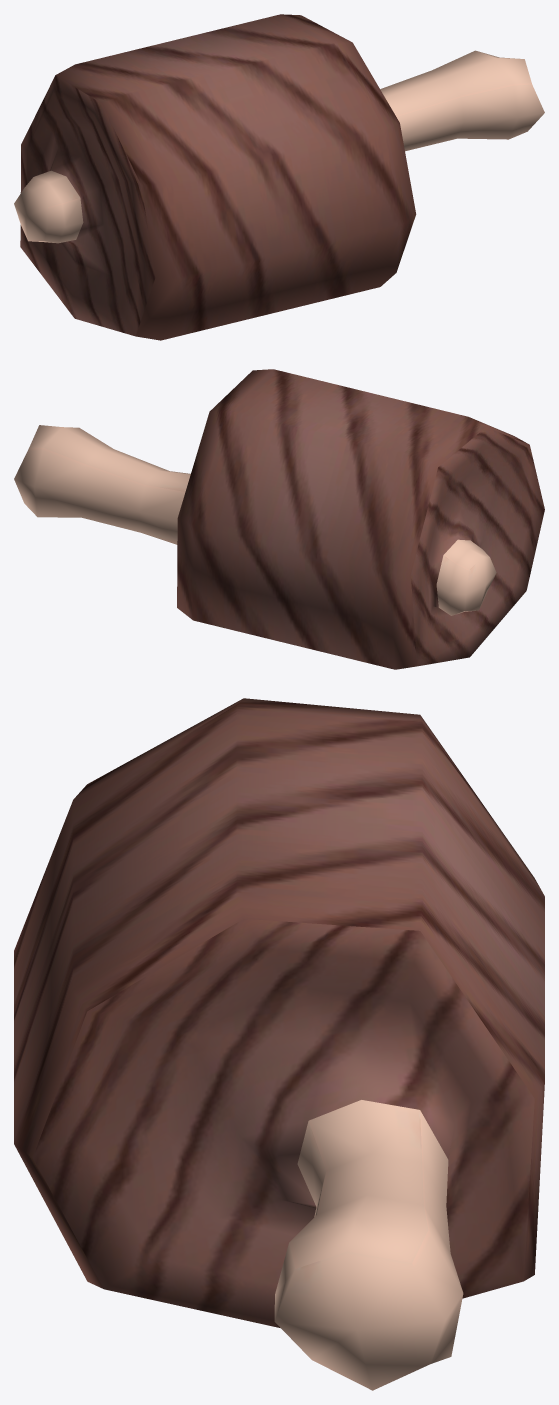
File: CookedPrimeMeat.fbx
The picture shows the model from 3 angles, top to bottom: view 1: azimuth 30°, elevation 25°; view 2: azimuth 150°, elevation 25°; view 3: azimuth 270°, elevation 25°; orthographic projection. The views are drawn at different scales.
Visible parts, largest first — view 1: Meat; view 2: Meat; view 3: Meat.
Boxes of the visible parts, x1,y1,x2,y2 form: Meat: (14, 14, 544, 340); Meat: (14, 369, 544, 669); Meat: (14, 698, 544, 1390).
Size of the model in its own units: 1.71 by 0.7942 by 0.8737.
1 material, 1 textured.
